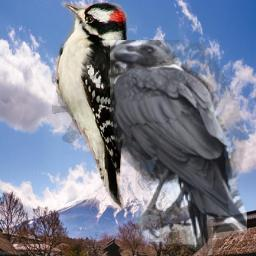Crow: (110, 40, 247, 255)
Woodpecker: (52, 2, 134, 209)
